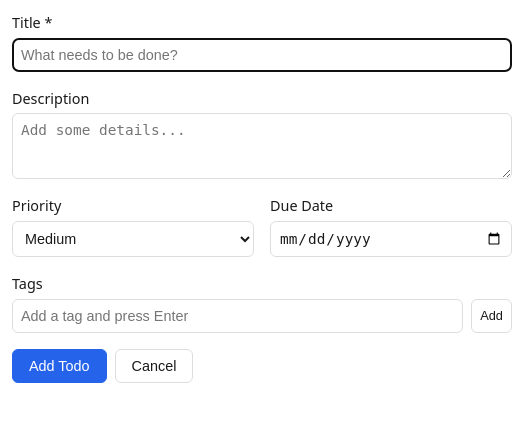
Test: TodoForm validation › requires a title
Click the button "Add Todo". click: (59, 366)
box: [12,349,107,383]
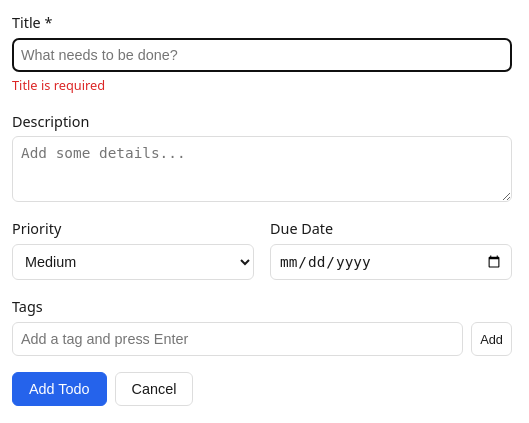
Check: the text "Title is required" is shown, box [12,76,105,94]
